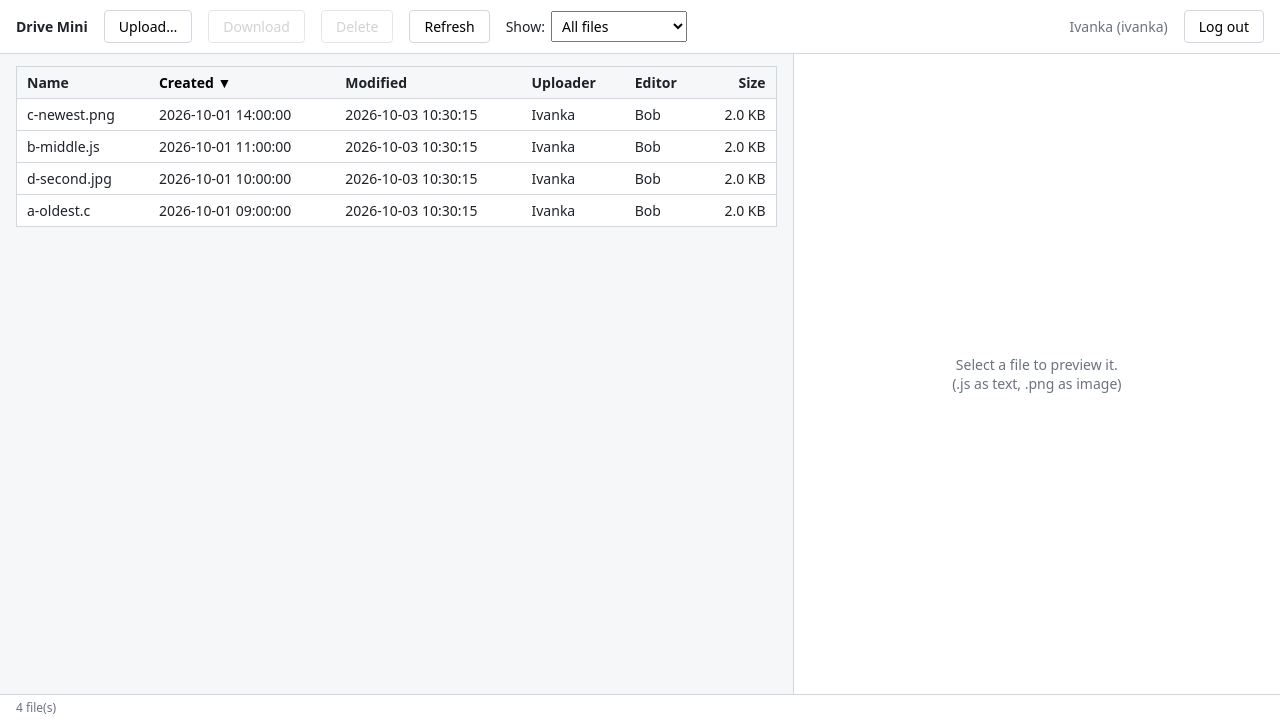
a selected file that the filter hides can't be downloaded or deleted
The image size is (1280, 720).
Click the text "b-middle.js". click: [83, 146]
box: [16,130,149,162]
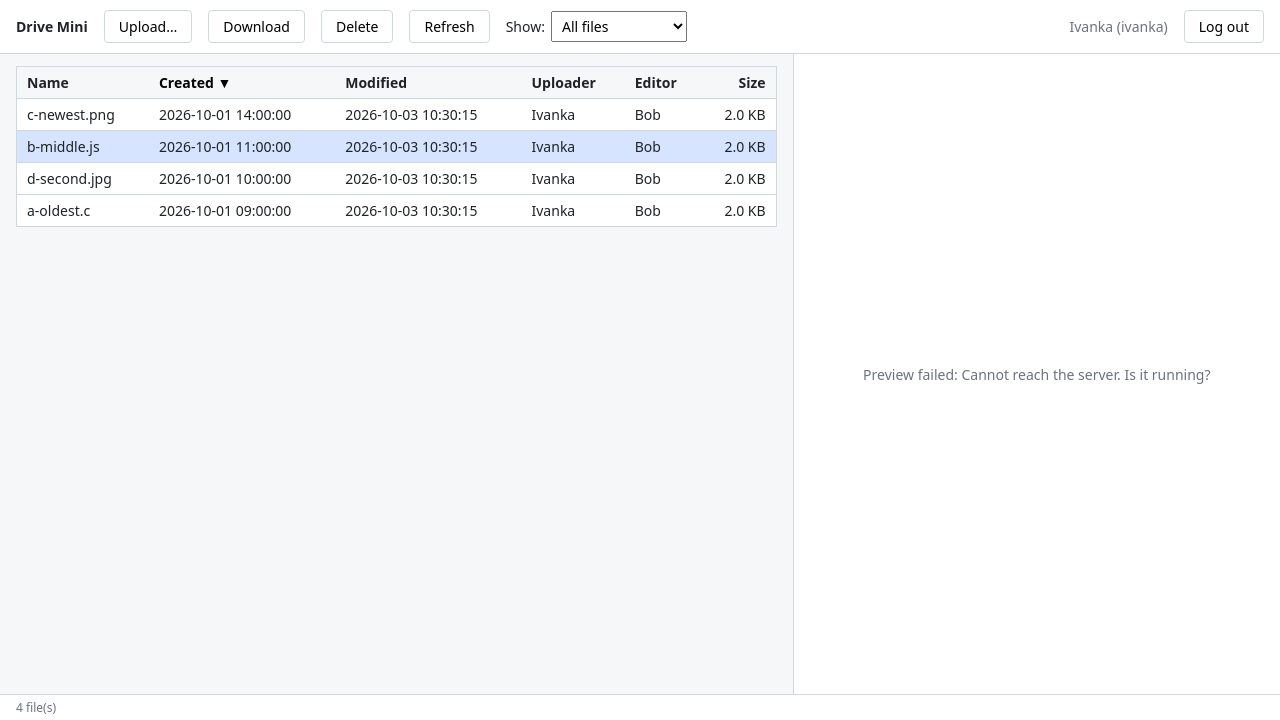
Check: the button "Delete" is enabled, box [321,10,394,43]
Select "Only .c and .jpg" in the dropdown labelled "Show:". click: [619, 26]
box: [551,11,687,42]
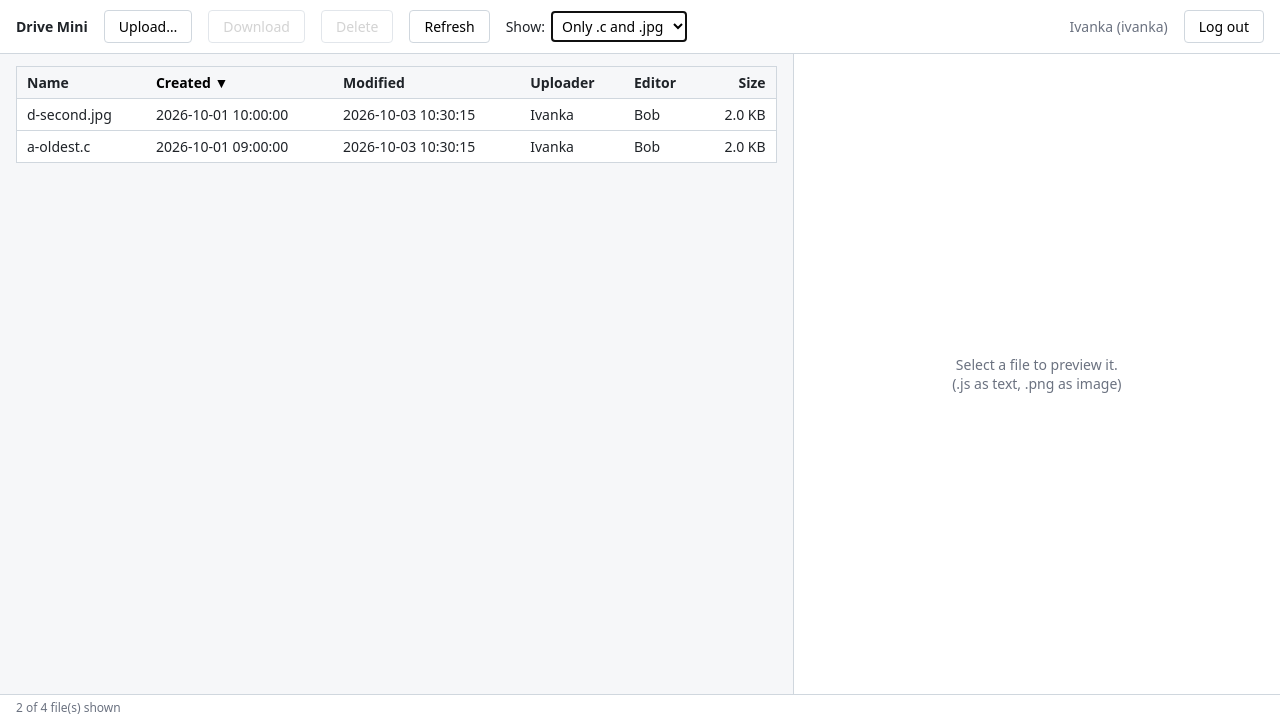
Check: the button "Delete" is disabled, box [321,10,394,43]
